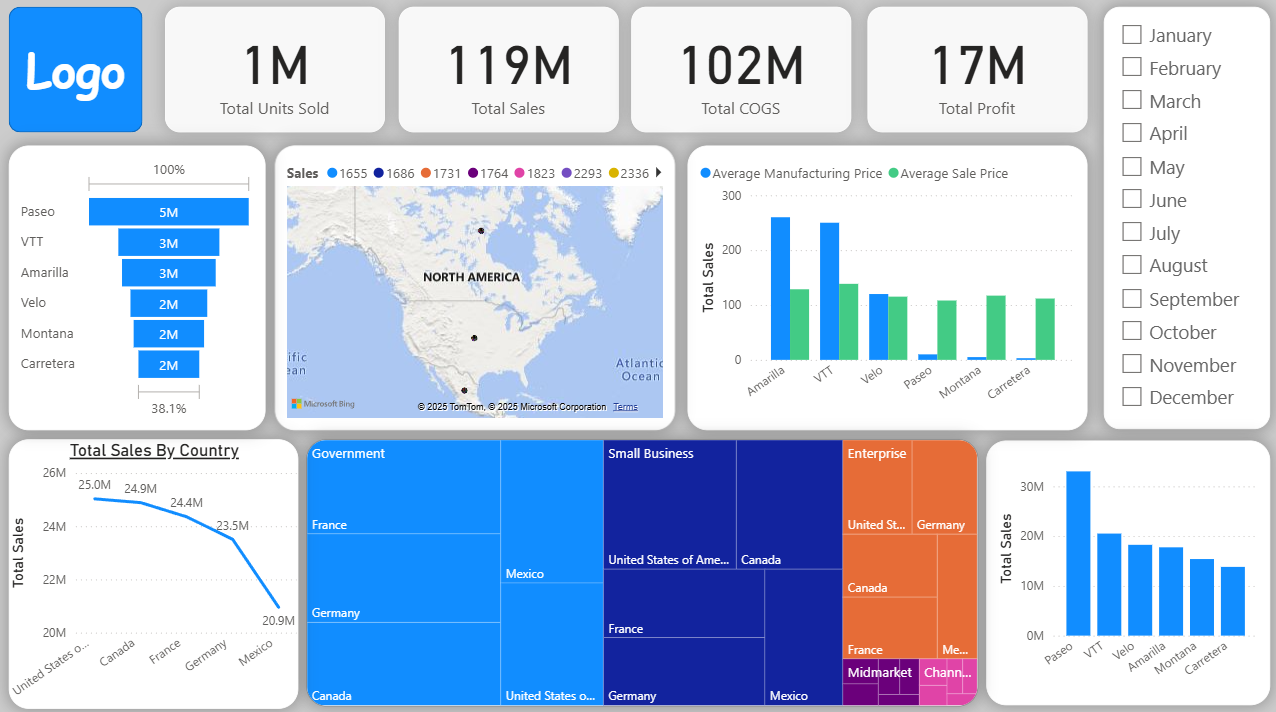

This screenshot's page, from the dashboard's own definition file:
{"tool":"powerbi","page":{"name":"Page 1","canvas":[1280,720],"ordinal":0},"visuals":[{"type":"shape","box":[8.1,9.3,133.7,125.6],"z":0},{"type":"card","fields":{"Values":["Sum(financials.Units Sold)"]},"box":[165.1,9.3,220,125.6],"z":1000},{"type":"card","fields":{"Values":["Sum(financials.Sales)"]},"box":[398.8,9.3,219.8,125.6],"z":2000},{"type":"card","fields":{"Values":["Sum(financials.COGS)"]},"box":[631.4,9.3,219.8,125.6],"z":3000},{"type":"card","fields":{"Values":["Sum(financials.Profit)"]},"box":[867.4,9.3,219.8,125.6],"z":4000},{"type":"slicer","fields":{"Values":["financials.Date.Variation.Date Hierarchy.Month"]},"box":[1103.5,9.3,166.3,422.1],"z":5000},{"type":"columnChart","fields":{"Category":["financials.Product"],"Y":["Sum(financials.Sales)"]},"box":[986,443,283.7,265.1],"z":6000},{"type":"clusteredColumnChart","fields":{"Category":["financials.Product"],"Y":["Avg(financials.Manufacturing Price)","Avg(financials.Sale Price)"]},"box":[687.2,147.7,400,284.9],"z":7000},{"type":"map","fields":{"Category":["financials.Country"],"Series":["financials.Sales"]},"box":[275.6,147.7,400,284.9],"z":8000},{"type":"treemap","fields":{"Group":["financials.Segment"],"Values":["Sum(financials.Sales)"],"Details":["financials.Country"]},"box":[305.8,440.7,672.1,267.4],"z":9000},{"type":"lineChart","title":"Total Sales By Country","fields":{"Category":["financials.Country"],"Y":["Sum(financials.Sales)"]},"box":[8.1,440.7,289.5,269.8],"z":10000},{"type":"funnel","fields":{"Category":["financials.Product"],"Y":["Sum(financials.Profit)"]},"box":[8.1,147.7,257,284.9],"z":11000}]}

Visuals, with their boxes in screenshot pixels (x1, y1, x2, y2), scaled from the page's 1280x720 canvas onto the 1276x712 screenshot:
shape: [left=8, top=9, right=141, bottom=133]
card - Sum(financials.Units Sold): [left=165, top=9, right=384, bottom=133]
card - Sum(financials.Sales): [left=398, top=9, right=617, bottom=133]
card - Sum(financials.COGS): [left=629, top=9, right=849, bottom=133]
card - Sum(financials.Profit): [left=865, top=9, right=1084, bottom=133]
slicer - financials.Date.Variation.Date Hierarchy.Month: [left=1100, top=9, right=1266, bottom=427]
columnChart - financials.Product x Sum(financials.Sales): [left=983, top=438, right=1266, bottom=700]
clusteredColumnChart - financials.Product x Avg(financials.Manufacturing Price): [left=685, top=146, right=1084, bottom=428]
map - financials.Country x financials.Sales: [left=275, top=146, right=673, bottom=428]
treemap - financials.Segment x Sum(financials.Sales): [left=305, top=436, right=975, bottom=700]
"Total Sales By Country" lineChart: [left=8, top=436, right=297, bottom=703]
funnel - financials.Product x Sum(financials.Profit): [left=8, top=146, right=264, bottom=428]
